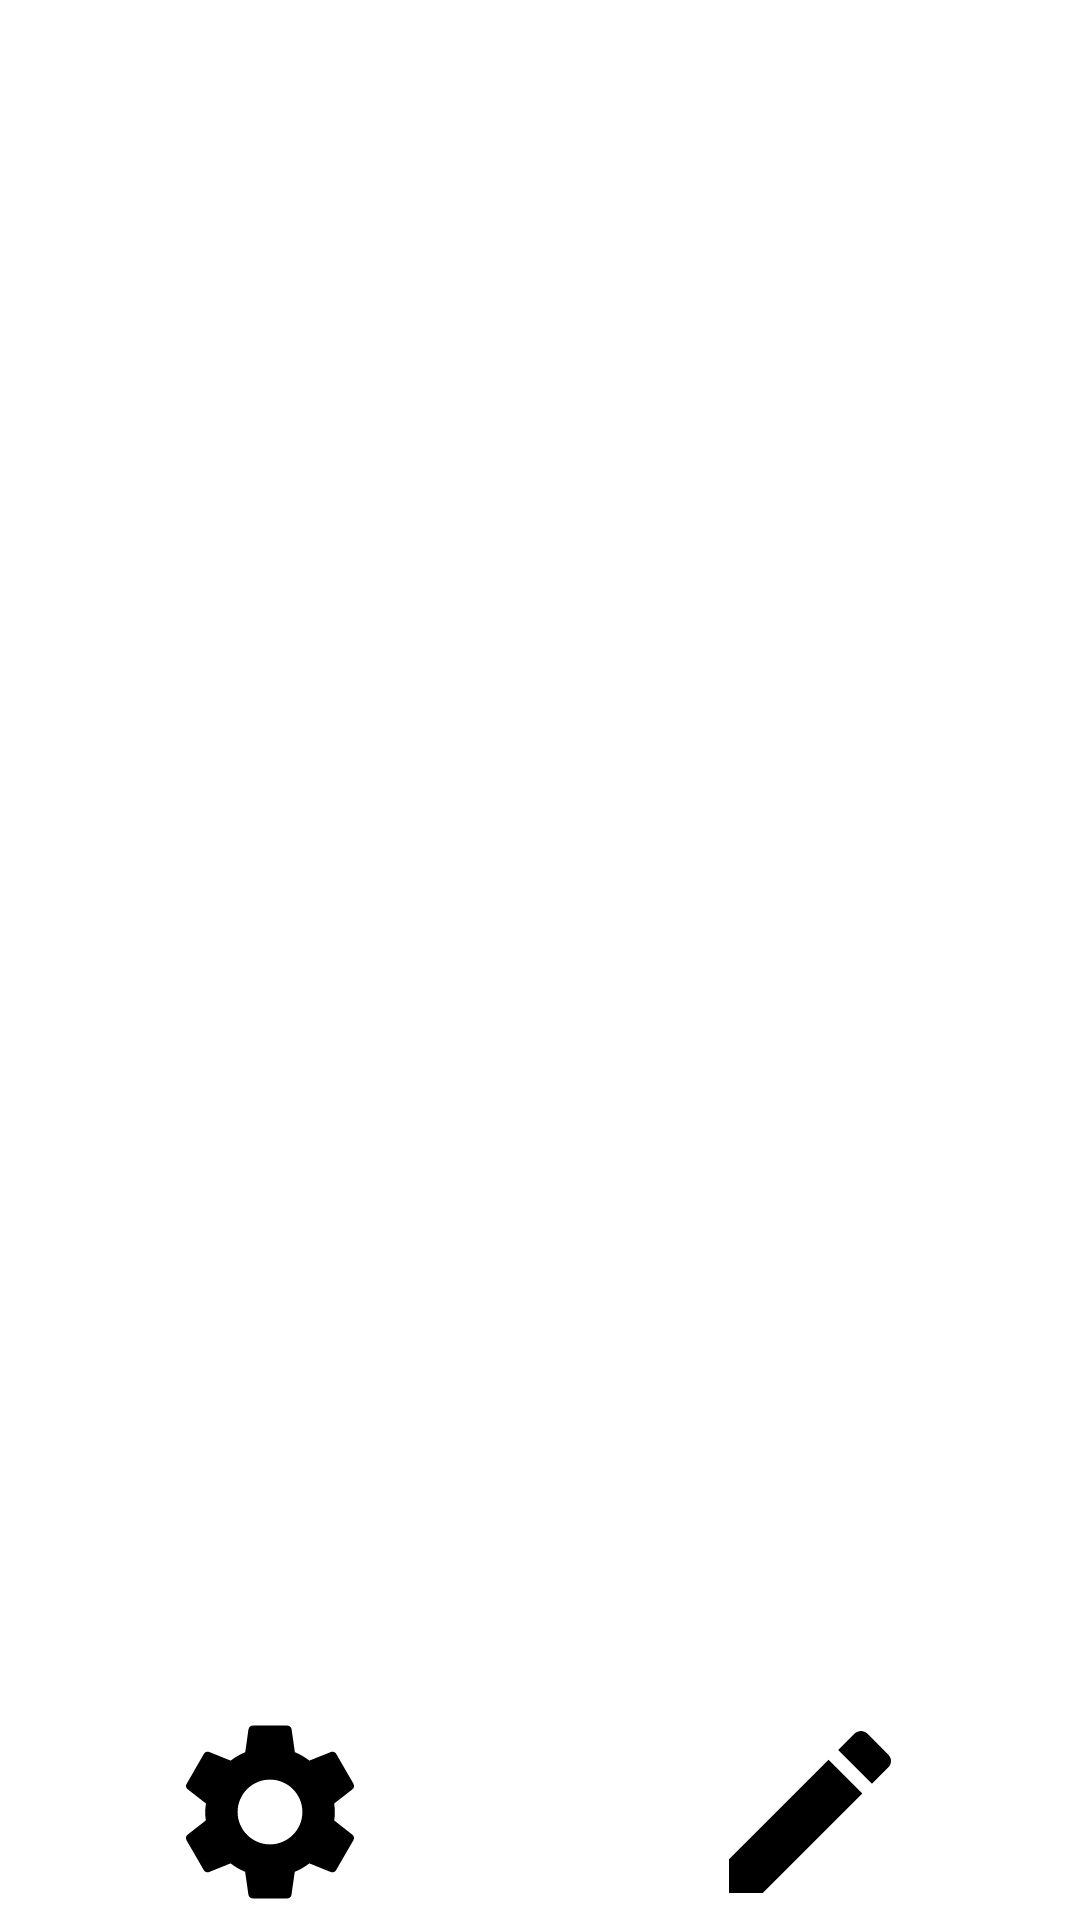

Where to tap for icons on this 1080x1920 app screen, as point (x, y):
App Settings: point (270, 1812)
